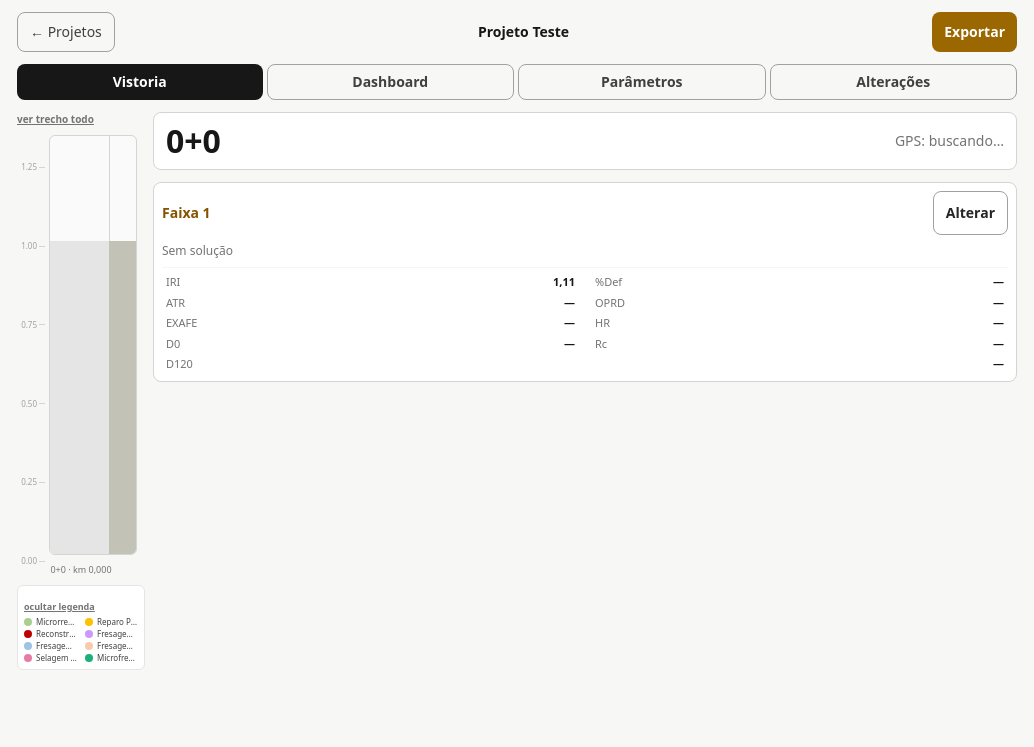
Test: VistoriaScreen — clique na régua atualiza os cards de Faixa (regressão pós-rodada-4) › clicar em 3 posições diferentes da régua muda o IRI exibido no card a cada clique, refletindo a estaca clicada
expect the button "Alterar" is shown: met, box 933,191 -> 1008,235
expect the text "1,11" is shown: met, box 553,274 -> 575,290
Click the button "ver trecho todo". click: x=55, y=120
box: 17,112 -> 94,127
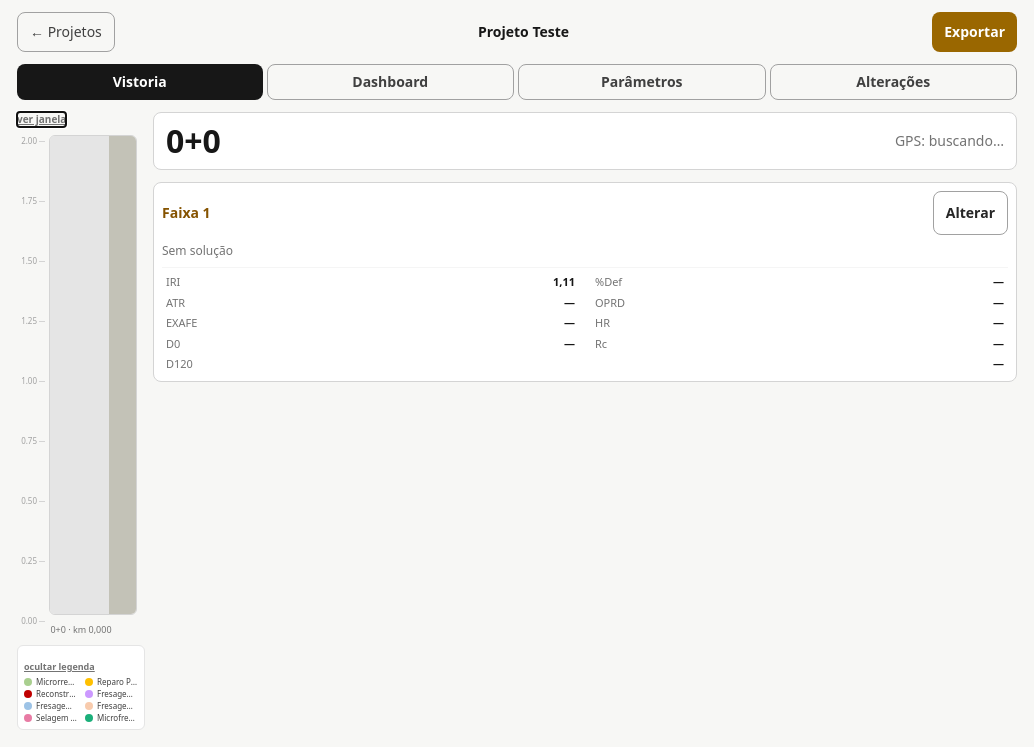
Press the mouse on the button named "Régua de consulta" at x=93, y=375, box 49,135 -> 137,615
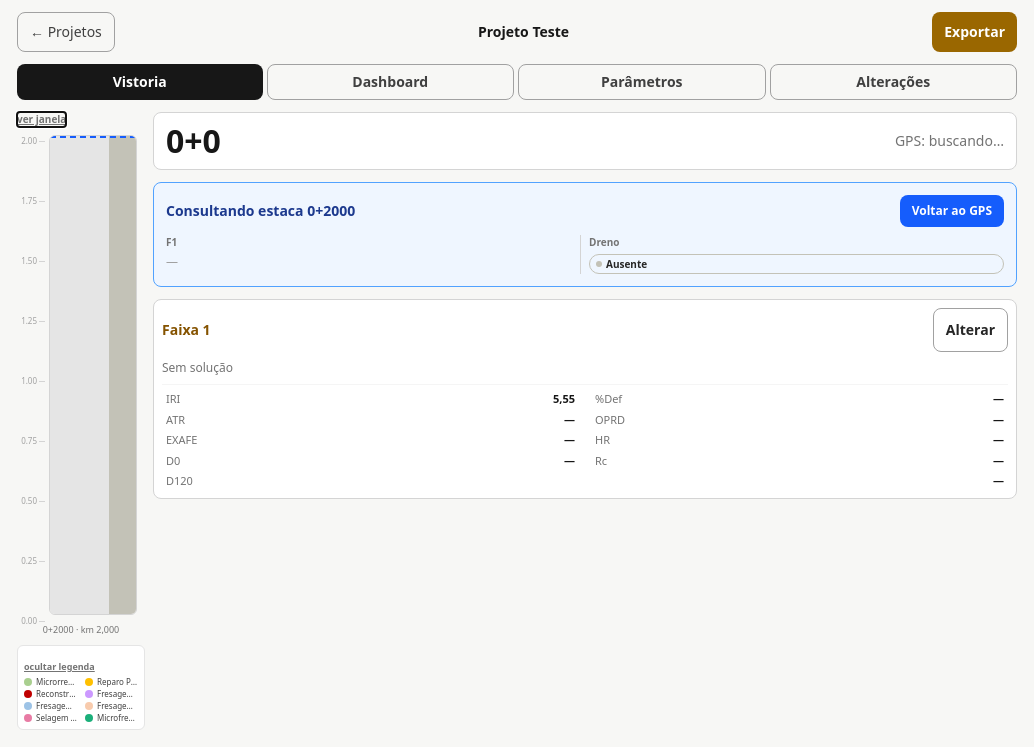
expect the text "5,55" is shown: met, box 553,391 -> 575,408
expect the text "1,11" is gone: met
Press the mouse on the button named "Régua de consulta" at x=93, y=375, box 49,135 -> 137,615
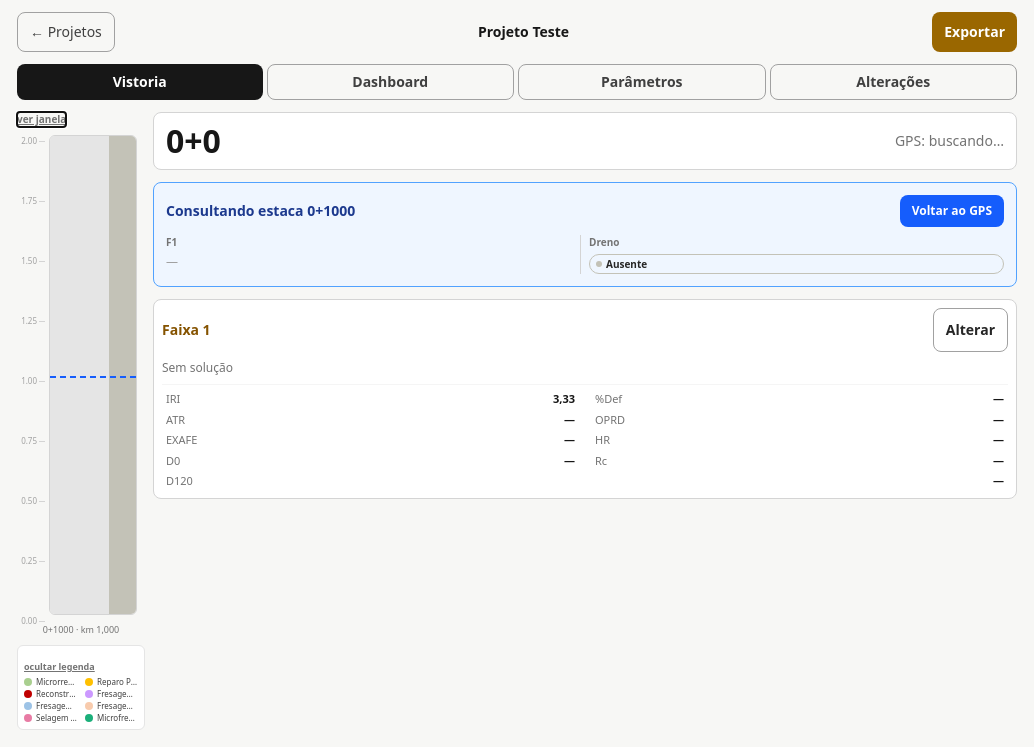
expect the text "3,33" is shown: met, box 553,391 -> 575,408
expect the text "5,55" is gone: met
Press the mouse on the button named "Régua de consulta" at x=93, y=375, box 49,135 -> 137,615
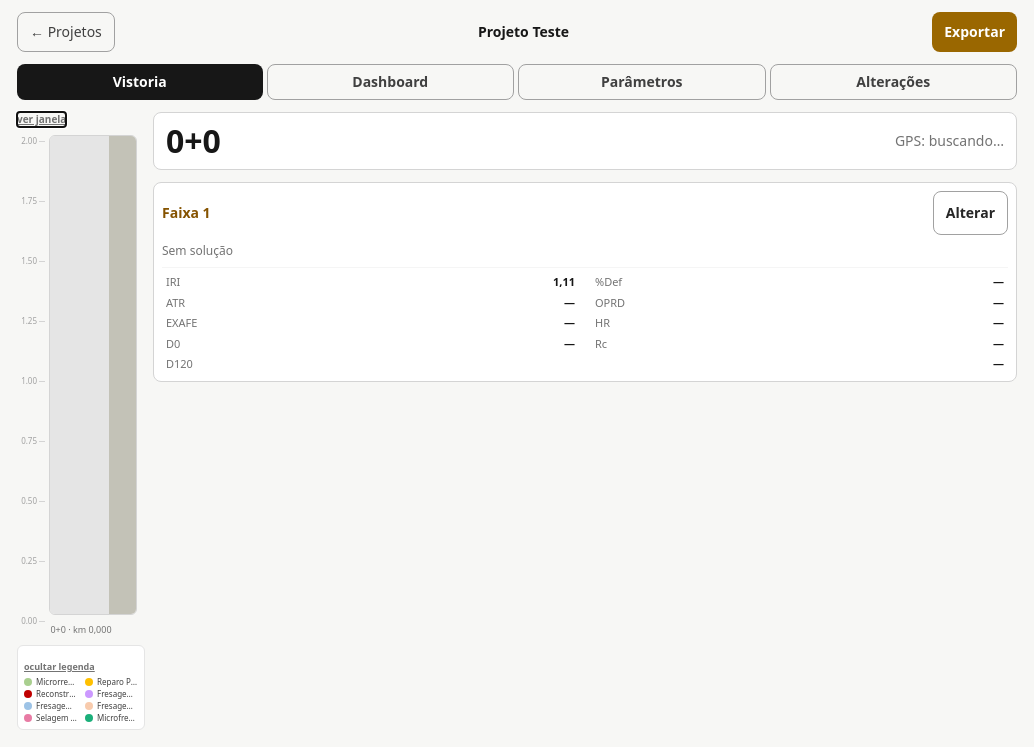
expect the text "1,11" is shown: met, box 553,274 -> 575,290
expect the text "3,33" is gone: met
